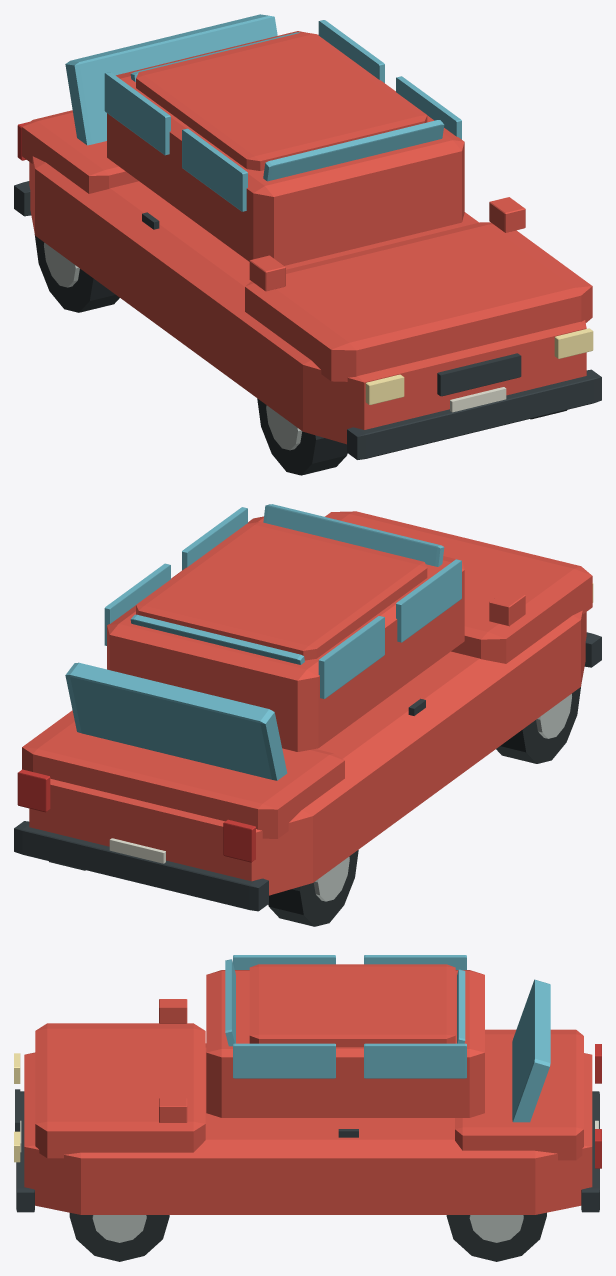
File: compact_hatchback.glb
3 renders of one model, top to bottom at view 1: azimuth 30°, elevation 25°; view 2: azimuth 150°, elevation 25°; view 3: azimuth 270°, elevation 25°, orthographic. The views are drawn at different scales.
Visible parts, largest first — view 1: CompactHatchback body shell, CompactHatchback hood, CompactHatchback cabin, CompactHatchback roof, CompactHatchback hatch, CompactHatchback front bumper, CompactHatchback rear deck, CompactHatchback front windshield, CompactHatchback rear side window, CompactHatchback front side window, CompactHatchback front tire -1, CompactHatchback grille (+10 smaller); view 2: CompactHatchback body shell, CompactHatchback roof, CompactHatchback cabin, CompactHatchback rear deck, CompactHatchback hatch, CompactHatchback hood, CompactHatchback rear bumper, CompactHatchback front windshield, CompactHatchback rear side window, CompactHatchback front side window, CompactHatchback rear tire -1, CompactHatchback front tire -1 (+9 smaller); view 3: CompactHatchback body shell, CompactHatchback hood, CompactHatchback cabin, CompactHatchback roof, CompactHatchback rear deck, CompactHatchback hatch, CompactHatchback front side window.001, CompactHatchback rear side window.001, CompactHatchback front tire 1, CompactHatchback rear tire 1, CompactHatchback rear hub 1, CompactHatchback front hub 1 (+8 smaller).
Boxes of the visible parts, x1,y1,x2,y2 form: CompactHatchback body shell: (29,156,586,444); CompactHatchback hood: (245,222,592,381); CompactHatchback cabin: (107,31,464,265); CompactHatchback roof: (136,32,427,170); CompactHatchback hatch: (65,14,277,145); CompactHatchback front bumper: (347,369,601,459); CompactHatchback rear deck: (22,110,138,193); CompactHatchback front windshield: (263,120,444,181); CompactHatchback rear side window: (104,72,170,155); CompactHatchback front side window: (182,128,247,211); CompactHatchback front tire -1: (257,398,347,475); CompactHatchback grille: (437,353,521,396); CompactHatchback body shell: (29,610,586,895); CompactHatchback roof: (136,522,427,660); CompactHatchback cabin: (107,516,464,751); CompactHatchback rear deck: (22,710,344,838); CompactHatchback hatch: (65,662,287,780); CompactHatchback hood: (325,511,592,663); CompactHatchback rear bumper: (14,821,268,911); CompactHatchback front windshield: (263,504,444,566); CompactHatchback rear side window: (318,616,384,698); CompactHatchback front side window: (396,559,461,642); CompactHatchback rear tire -1: (268,850,358,926); CompactHatchback front tire -1: (496,687,580,763); CompactHatchback body shell: (24,1043,592,1214); CompactHatchback hood: (35,1023,205,1158); CompactHatchback cabin: (206,970,484,1117); CompactHatchback roof: (249,964,455,1047); CompactHatchback rear deck: (455,1029,583,1160); CompactHatchback hatch: (512,979,550,1122); CompactHatchback front side window.001: (233,1043,335,1078); CompactHatchback rear side window.001: (364,1043,466,1078); CompactHatchback front tire 1: (69,1213,169,1261); CompactHatchback rear tire 1: (446,1212,546,1261); CompactHatchback rear hub 1: (469,1215,523,1242); CompactHatchback front hub 1: (92,1215,146,1242).
Bounding box in the file's own units: 1.74 × 1.5 × 3.76.
